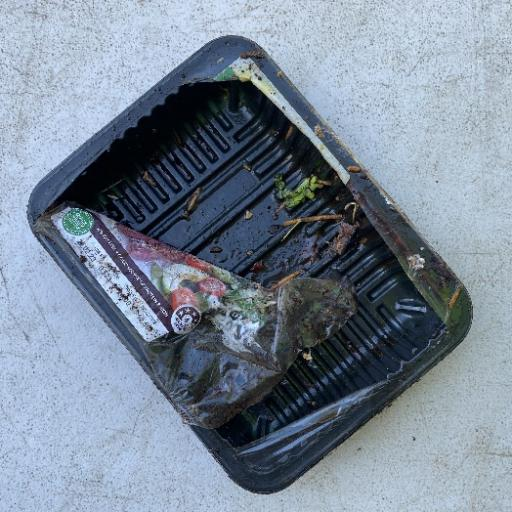Plastic: (24, 34, 474, 494), (52, 203, 360, 431)
